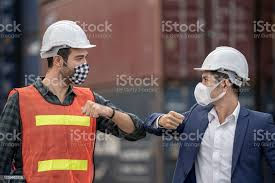Helmet: (198, 43, 255, 75), (35, 21, 93, 50)
Jacket: (11, 86, 96, 183)
Mask: (55, 63, 94, 84), (191, 86, 227, 107)
No-jacket: (171, 106, 262, 181)
